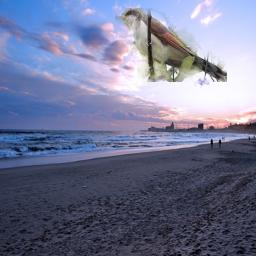Cuckoo: (115, 8, 227, 82)
